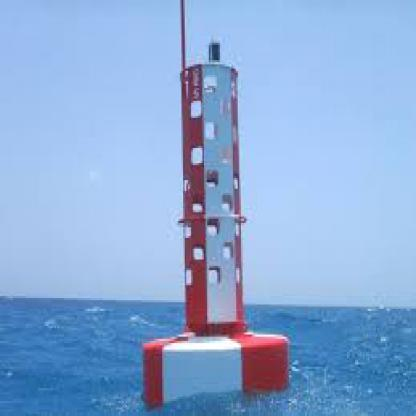buoy: (132, 0, 296, 410)
